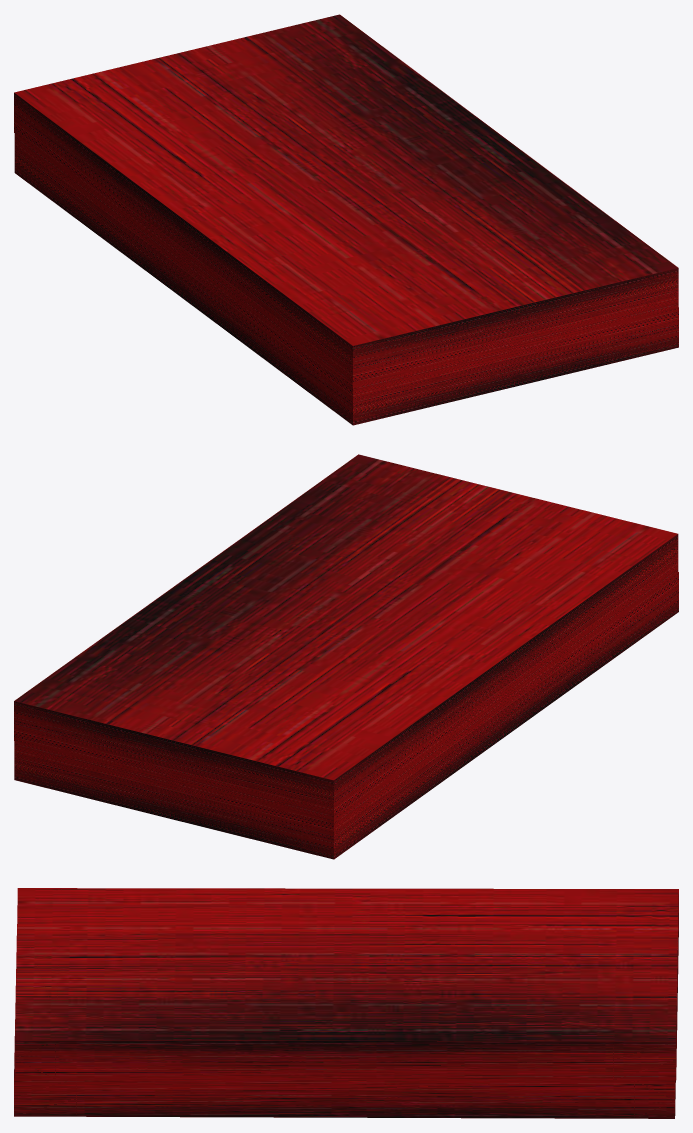
Rendered from cajitaRojaSB.FBX.
The picture shows the model from 3 angles, top to bottom: view 1: azimuth 30°, elevation 25°; view 2: azimuth 150°, elevation 25°; view 3: azimuth 270°, elevation 25°; orthographic projection. The views are drawn at different scales.
Parts seen in each view (by area): view 1: CUADRO BLANCO002, CUADRO BLANCO001; view 2: CUADRO BLANCO002, CUADRO BLANCO001; view 3: CUADRO BLANCO002, CUADRO BLANCO001.
Boxes of the visible parts, x1,y1,x2,y2 form: CUADRO BLANCO002: (14, 14, 678, 384); CUADRO BLANCO001: (14, 133, 678, 425); CUADRO BLANCO002: (14, 454, 678, 820); CUADRO BLANCO001: (14, 572, 678, 859); CUADRO BLANCO002: (15, 888, 678, 1080); CUADRO BLANCO001: (14, 936, 675, 1118).
Bounding box in the file's own units: 12.08 × 2.81 × 21.93.
